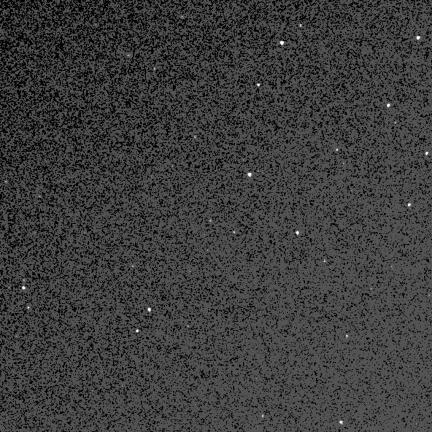blob: (296, 231, 300, 236), (387, 104, 391, 108), (408, 203, 412, 207), (22, 286, 26, 290), (425, 152, 429, 156), (280, 41, 284, 45), (417, 36, 420, 40), (248, 173, 251, 177), (27, 306, 30, 310), (148, 308, 151, 312), (340, 421, 343, 425), (346, 335, 349, 339), (136, 330, 140, 333), (233, 231, 236, 234), (324, 260, 327, 263), (257, 84, 260, 87), (300, 25, 303, 28), (336, 149, 339, 152), (210, 220, 213, 222), (262, 415, 264, 418)
